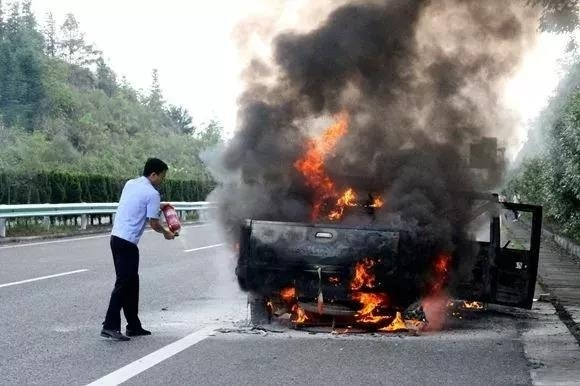fire: (237, 102, 474, 337)
